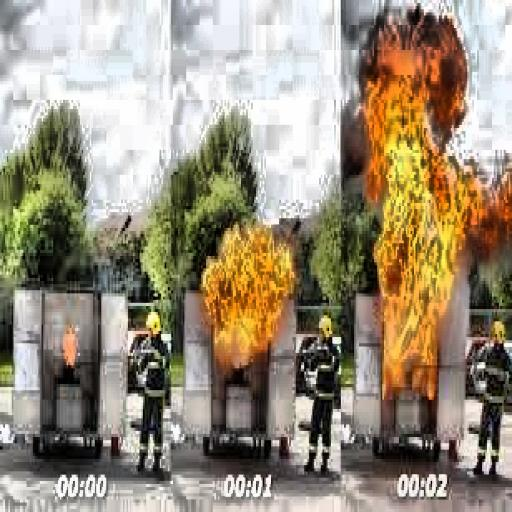fire: (357, 3, 487, 397), (196, 219, 298, 359), (55, 322, 96, 374)
